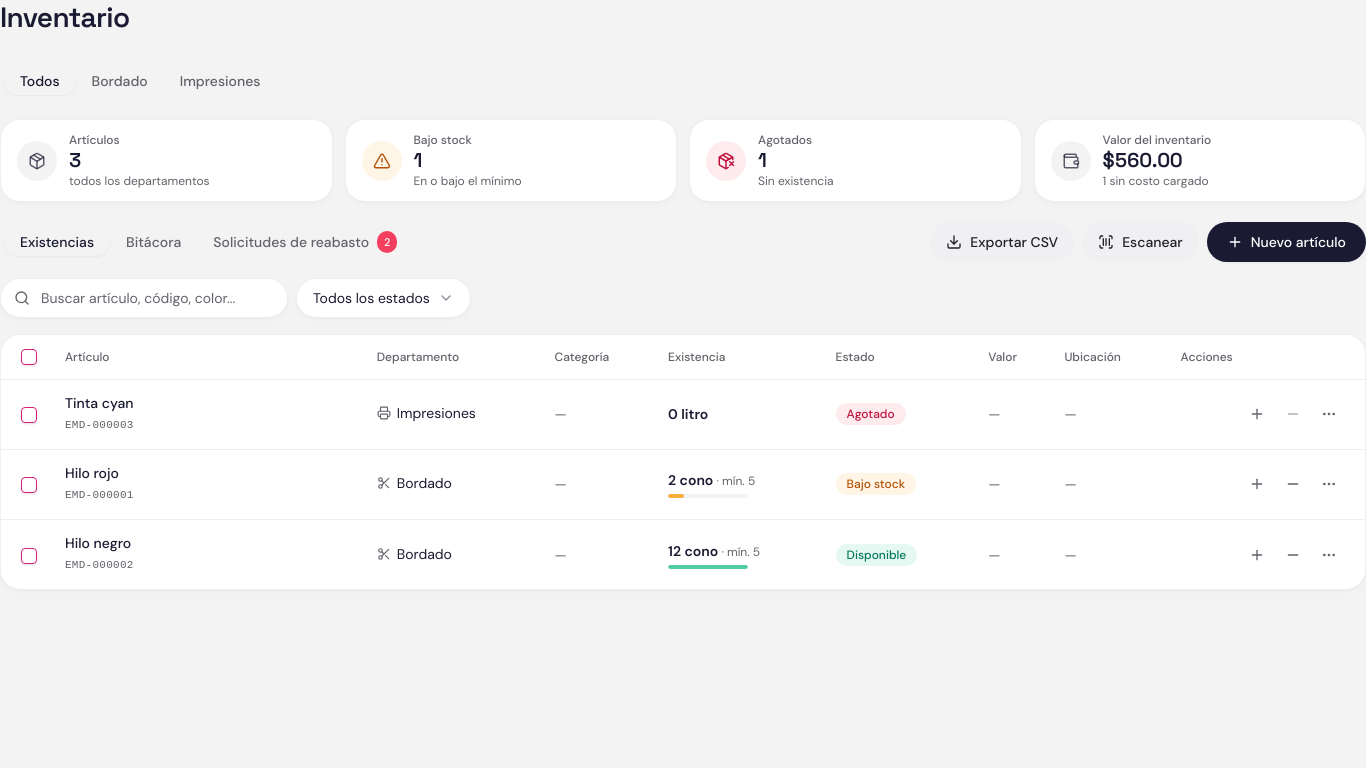
InventarioPage › selecciona artículos y abre la vista previa de etiquetas en lote
Click the checkbox named "Seleccionar Hilo rojo".
click(29, 485)  # box [21,477,37,493]
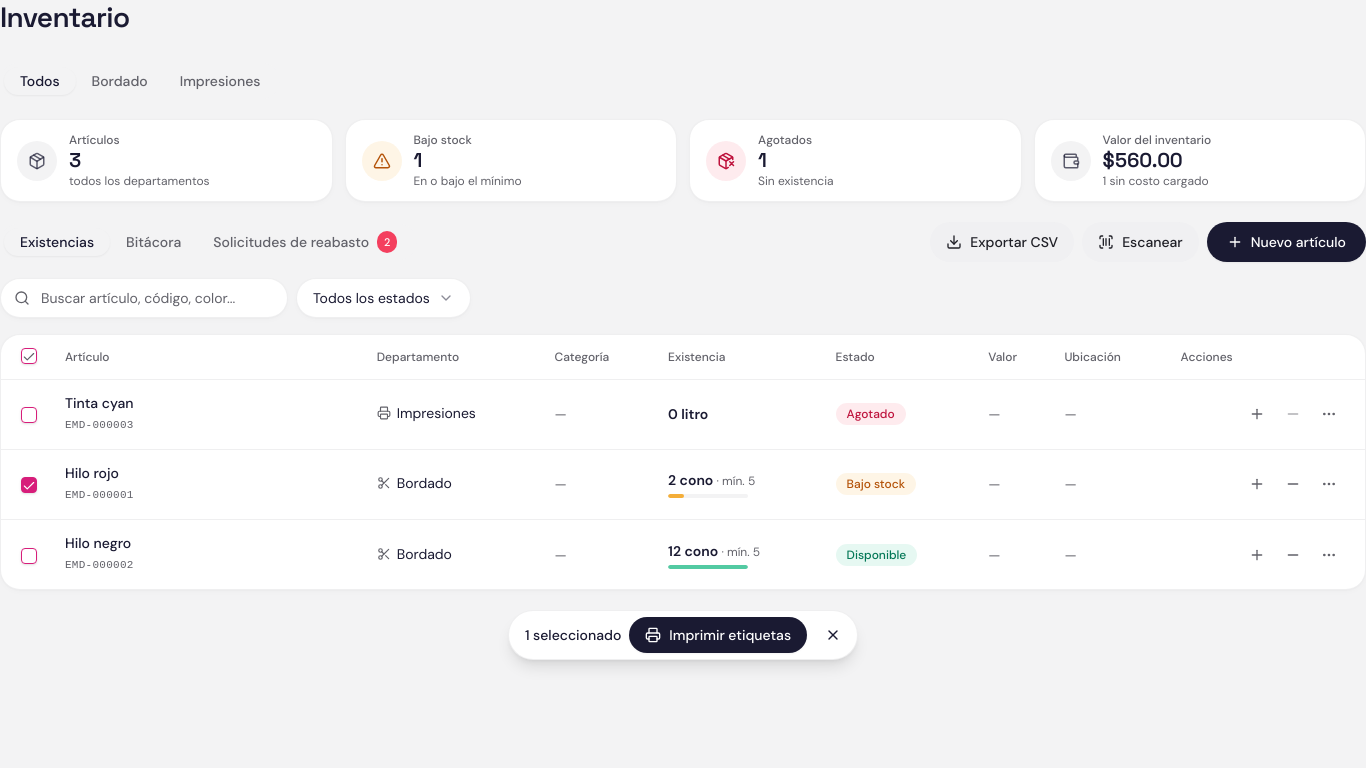
Click the checkbox named "Seleccionar Tinta cyan".
click(29, 415)  # box [21,407,37,423]
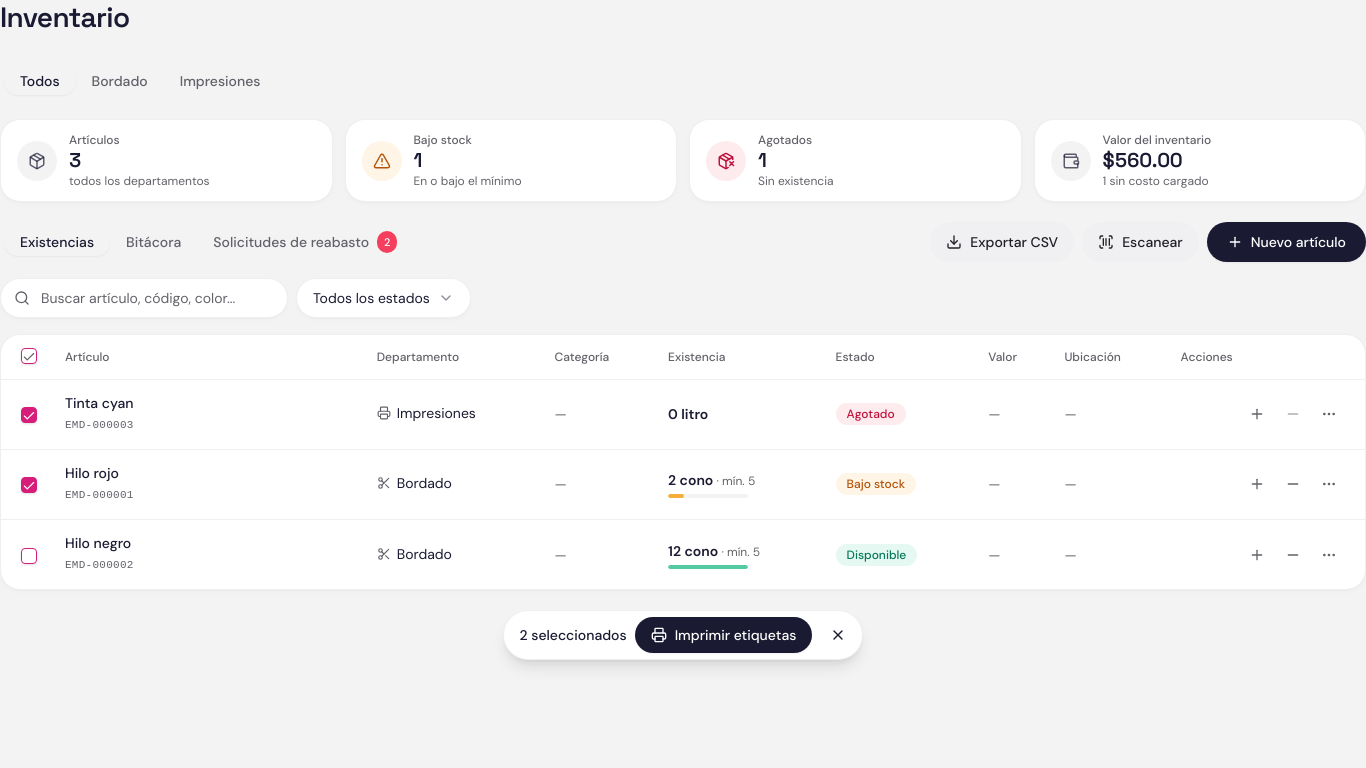
Expected: the text "2 seleccionados" is shown, [520,625,627,645]
Click the button "Imprimir etiquetas".
click(724, 635)  # box [635,617,812,653]
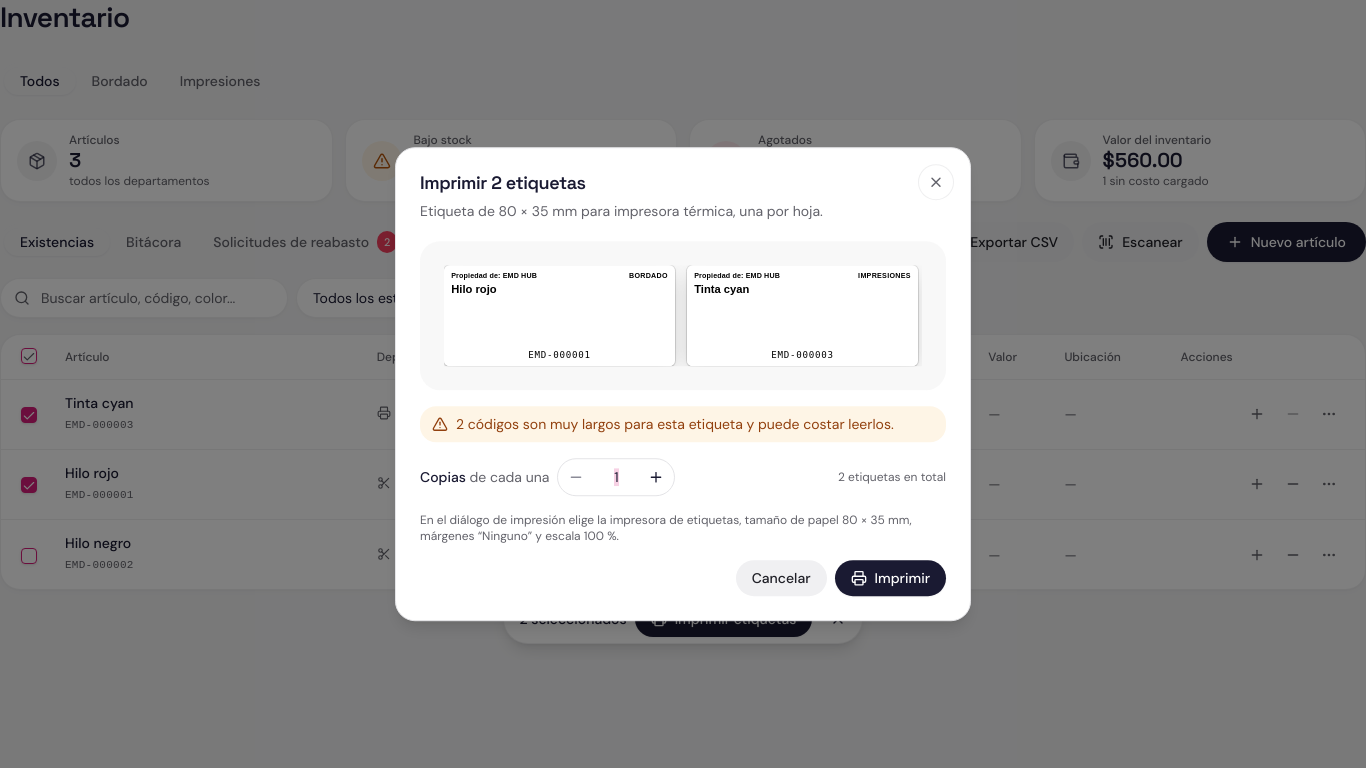
Expected: the heading "Imprimir 2 etiquetas" is shown, [420,171,586,194]
Expected: the number of pictures with test id "label-preview" is 2, [444,265,675,366]; [687,265,918,366]
